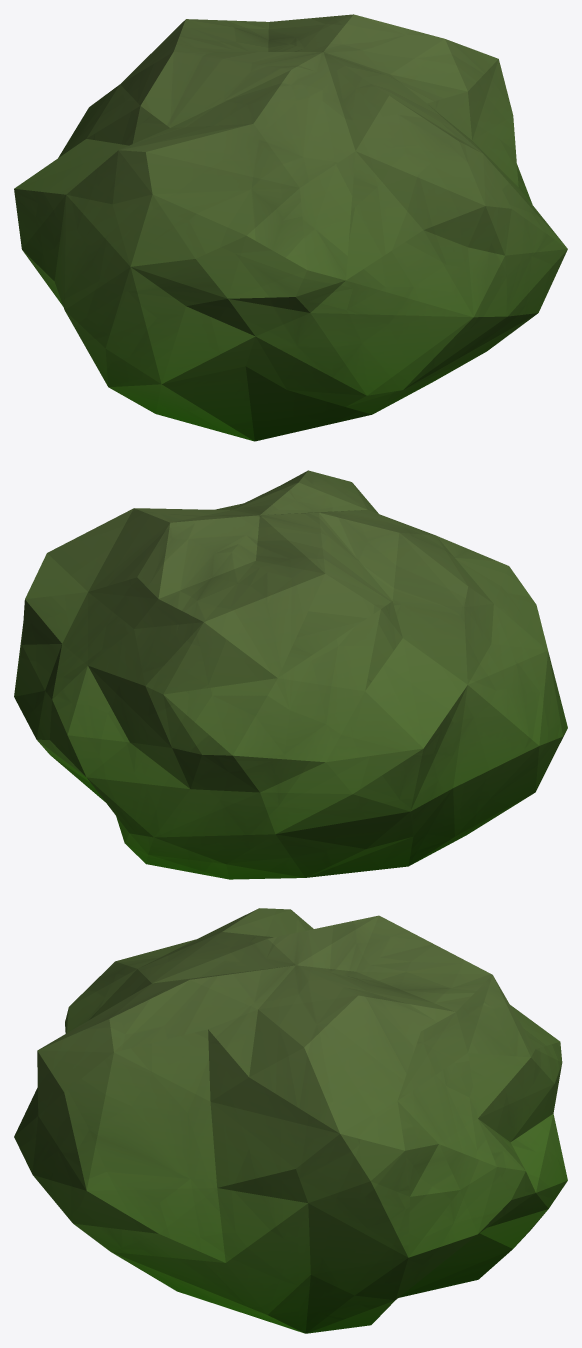
File: synty-plant-hedge-bush-01.gltf
3 views of the same model, one above another, from view 1: azimuth 30°, elevation 25°; view 2: azimuth 150°, elevation 25°; view 3: azimuth 270°, elevation 25° (orthographic). The views are drawn at different scales.
Visible parts, largest first — view 1: SM_Plant_Hedge_Bush_01; view 2: SM_Plant_Hedge_Bush_01; view 3: SM_Plant_Hedge_Bush_01.
Boxes of the visible parts, x1,y1,x2,y2 form: SM_Plant_Hedge_Bush_01: (14,14,567,441); SM_Plant_Hedge_Bush_01: (14,470,567,879); SM_Plant_Hedge_Bush_01: (14,908,567,1333).
Size of the model in its own units: 3.41 by 2.07 by 3.41.
1 material, 1 textured.
